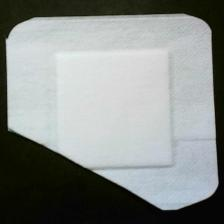Cut: (5, 10, 222, 212)
